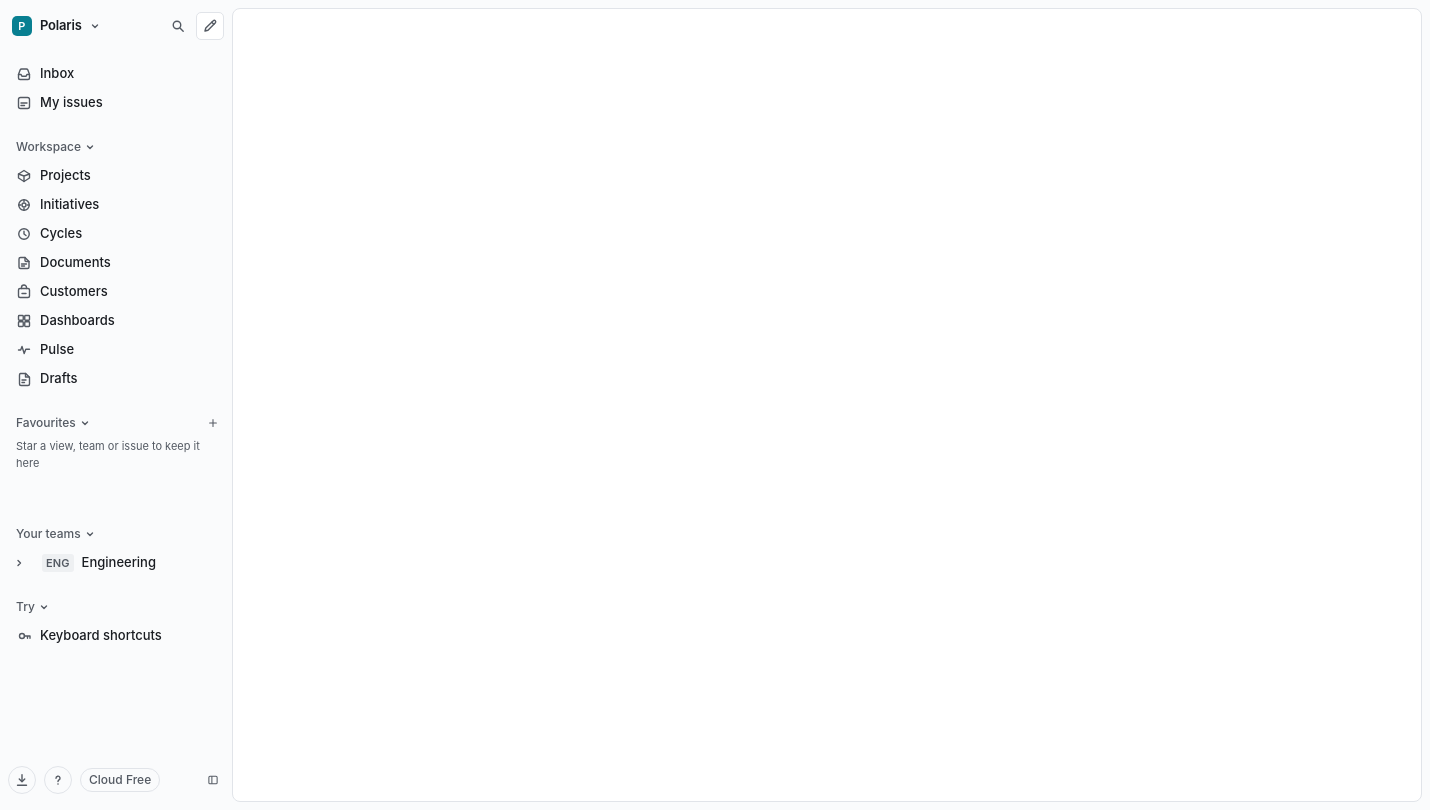
Test: favourites with nothing in them › keeps its header and its controls, so a folder can still be made
The width and height of the screenshot is (1440, 810).
Check: the button "Favourites" is shown, box [8,409,194,437]
Check: the text "Star a view, team or issue to keep it here" is shown, box [8,438,224,475]
Click the button named "New folder" at (213, 423), box [202,412,224,434]
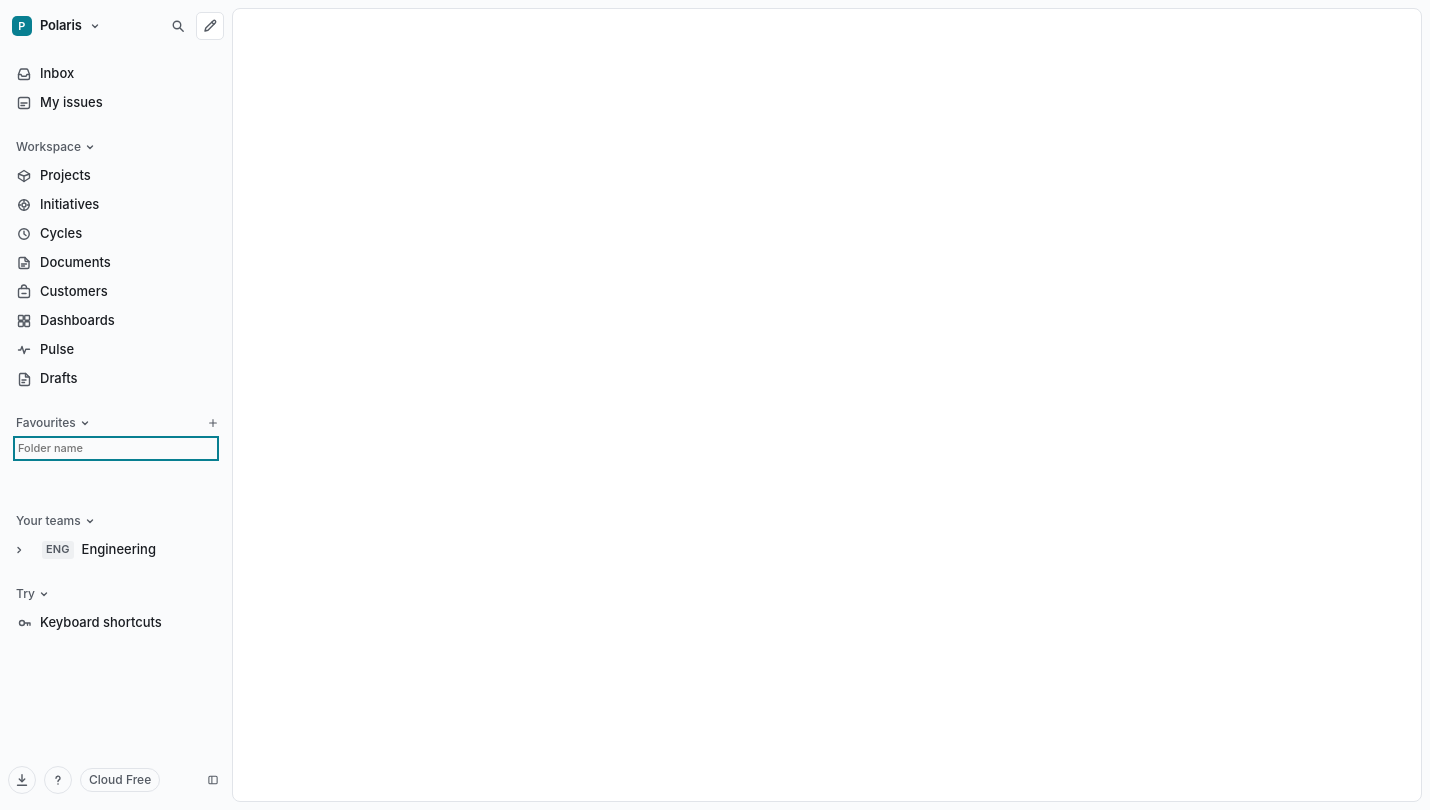
Check: the field labelled "Folder name" is shown, box [16,439,216,458]
